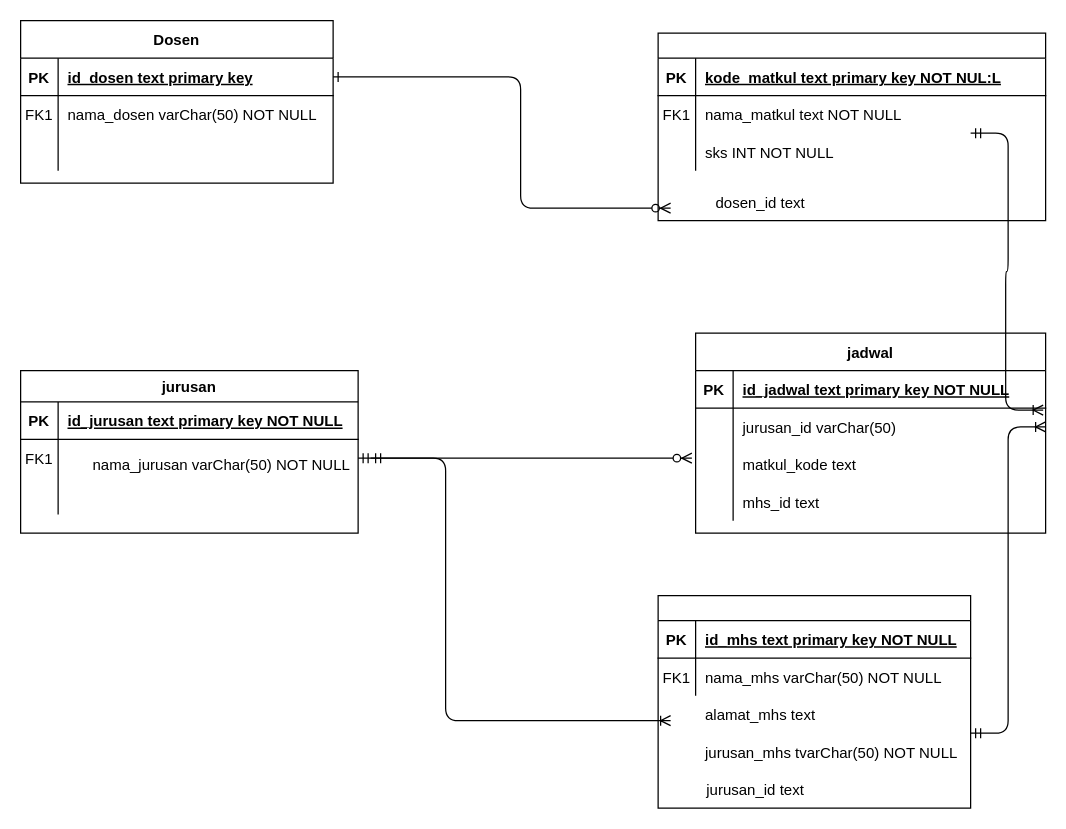
The diagram is 1066 pixels wide and 829 high, and some of its shapes have lost their labels. The box of each missing label's shape, as (x1, y1, x2, y2) in pixels:
Mahasiswa: (657, 594, 971, 808)
MataKuliah: (657, 32, 1046, 221)
